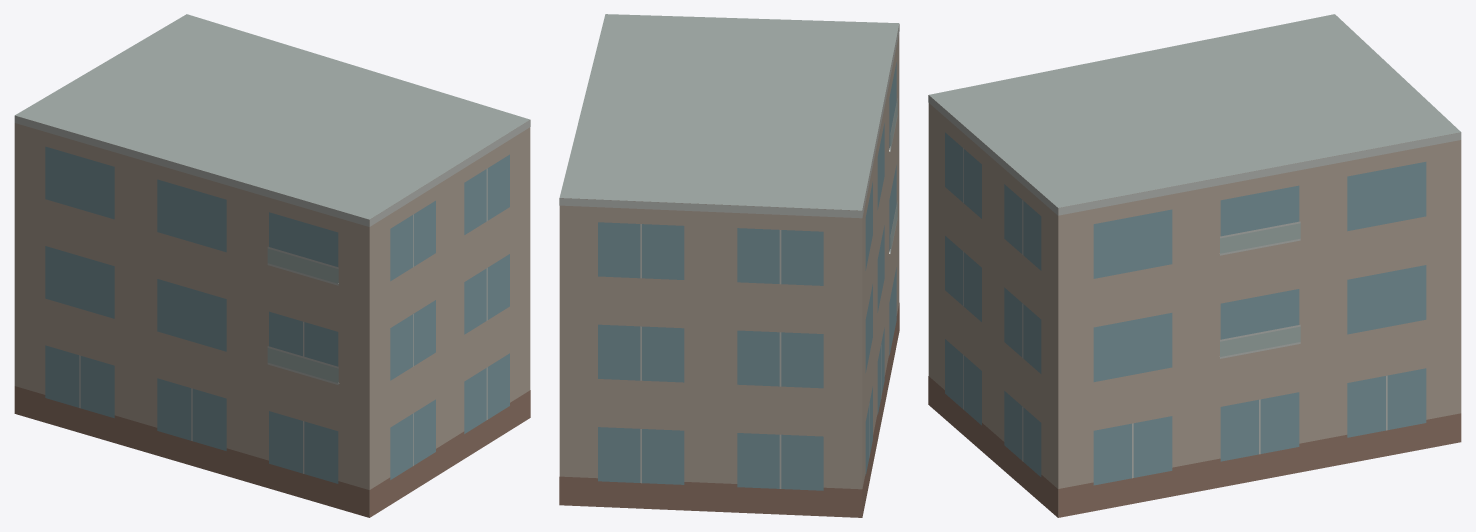
File: survey-upis-32747298.glb
3 views of the same model, side by side, from view 1: azimuth 30°, elevation 25°; view 2: azimuth 150°, elevation 25°; view 3: azimuth 270°, elevation 25° (orthographic). The views are drawn at different scales.
Parts seen in each view (by area): view 1: survey-upis-32747298.tmp; view 2: survey-upis-32747298.tmp; view 3: survey-upis-32747298.tmp.
Part boxes in pixels (x1,y1,x2,y2): survey-upis-32747298.tmp: (14,14,530,517); survey-upis-32747298.tmp: (559,14,899,517); survey-upis-32747298.tmp: (928,14,1461,517).
Size of the model in its own units: 13.17 by 9.8 by 15.28.
